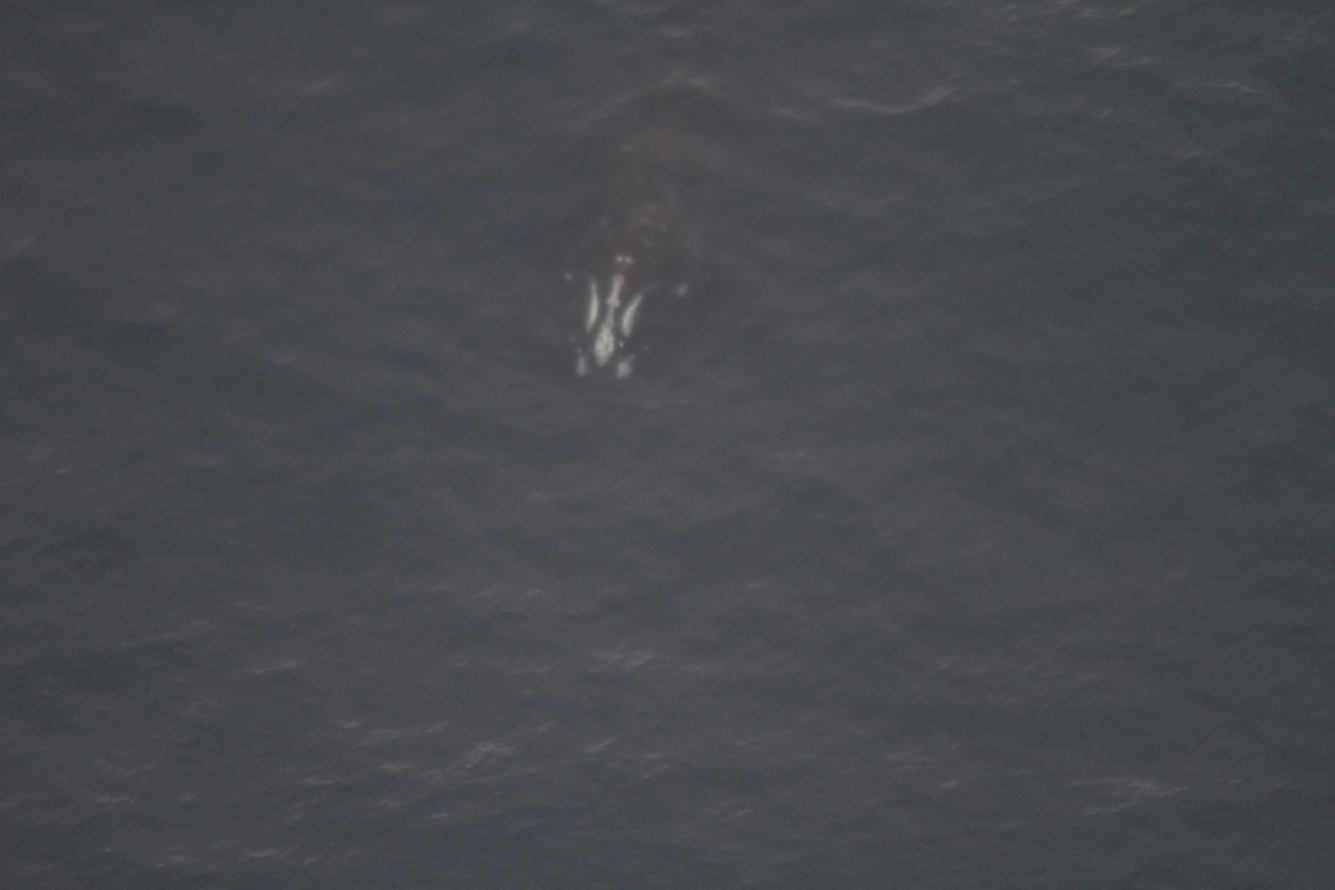whale: (549, 45, 757, 392)
